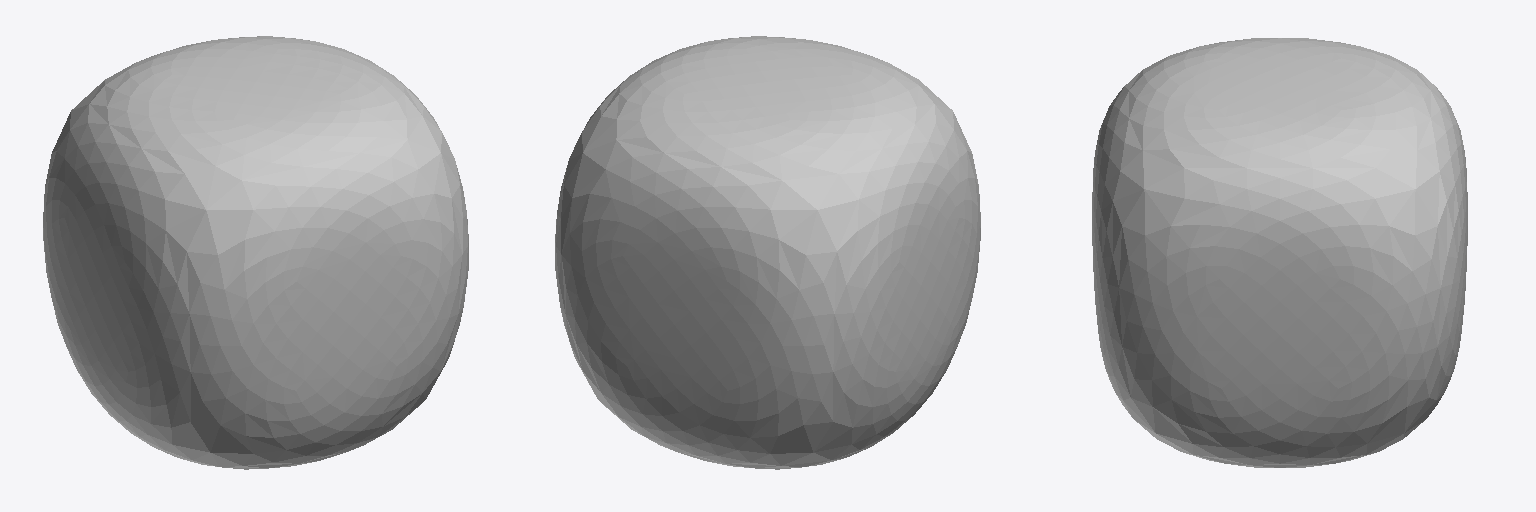
File: obj_frozenant.obj
The picture shows the model from 3 angles: view 1: azimuth 30°, elevation 25°; view 2: azimuth 150°, elevation 25°; view 3: azimuth 270°, elevation 25°; orthographic projection.
Visible parts, largest first — view 1: Cube_Cube.001; view 2: Cube_Cube.001; view 3: Cube_Cube.001.
Boxes of the visible parts, box(x1,y1,x2,y2) form: Cube_Cube.001: box(43, 36, 468, 469); Cube_Cube.001: box(555, 36, 980, 469); Cube_Cube.001: box(1092, 38, 1467, 467).
Size of the model in its own units: 1.94 by 1.98 by 1.94.